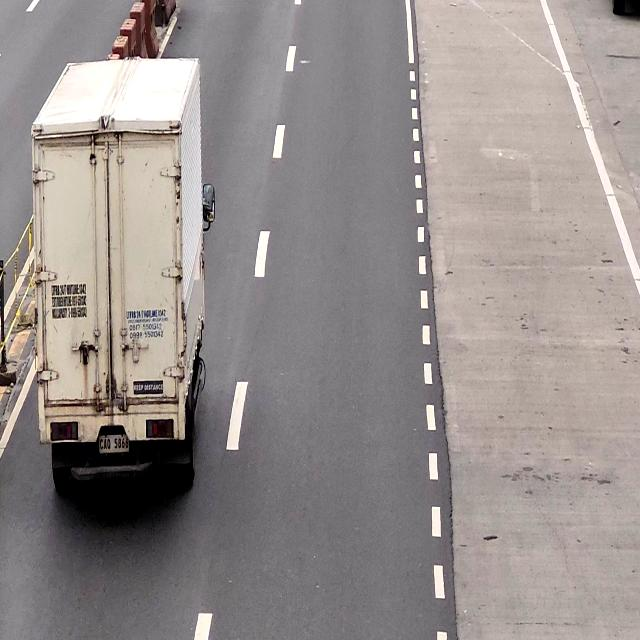License-Plate: (98, 434, 132, 457)
Truck: (34, 59, 209, 484)
